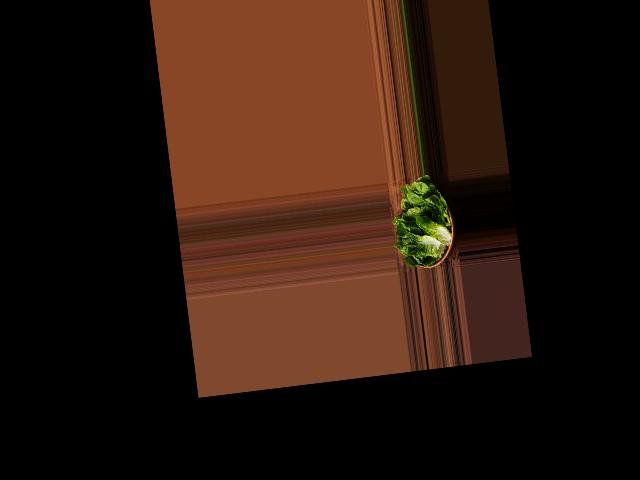lettuce: (389, 173, 459, 275)
